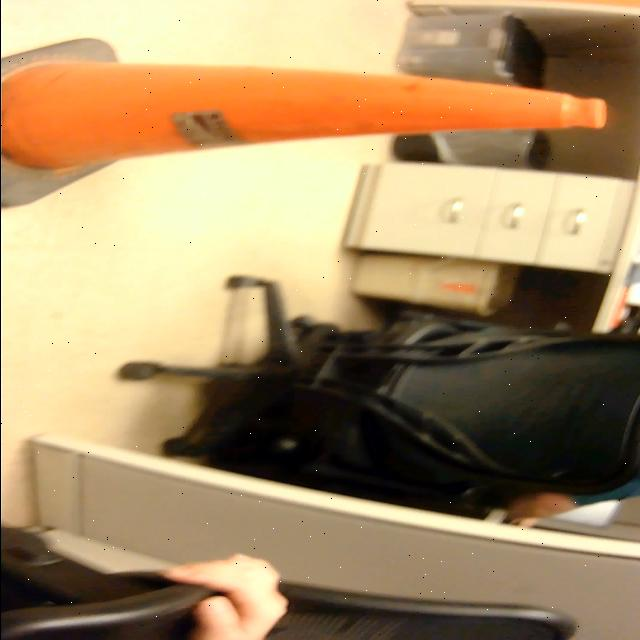traffic cone: (1, 35, 616, 215)
